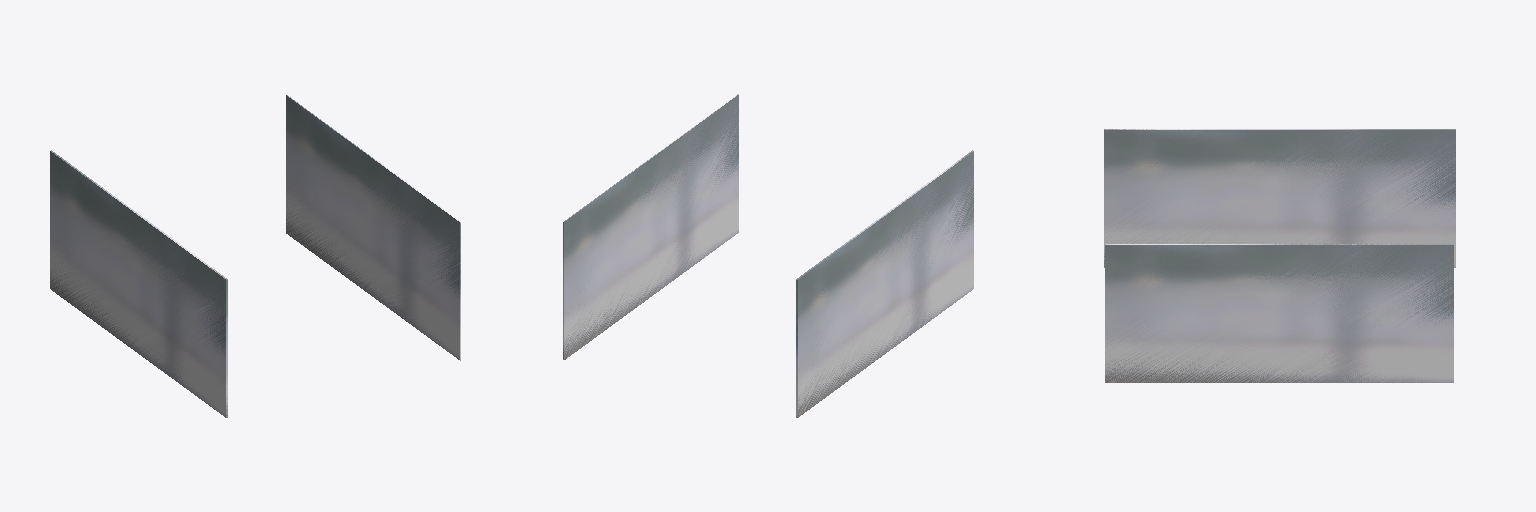
3 renders of one model, left to right at view 1: azimuth 30°, elevation 25°; view 2: azimuth 150°, elevation 25°; view 3: azimuth 270°, elevation 25°, orthographic.
Visible parts, largest first — view 1: CristalSPA; view 2: CristalSPA; view 3: CristalSPA.
Part boxes in pixels (x1,y1,x2,y2): CristalSPA: (50, 95, 460, 417); CristalSPA: (563, 94, 973, 417); CristalSPA: (1104, 129, 1455, 382).
Bounding box in the file's own units: 5.45 × 3.07 × 7.07.
1 materials, 1 textured.